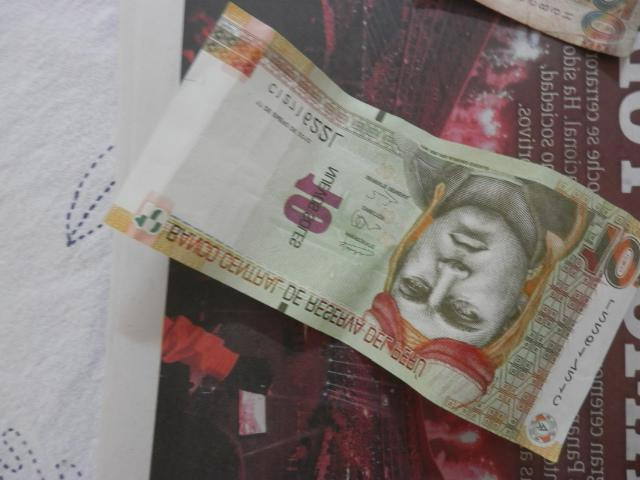B10: (105, 2, 640, 461)
